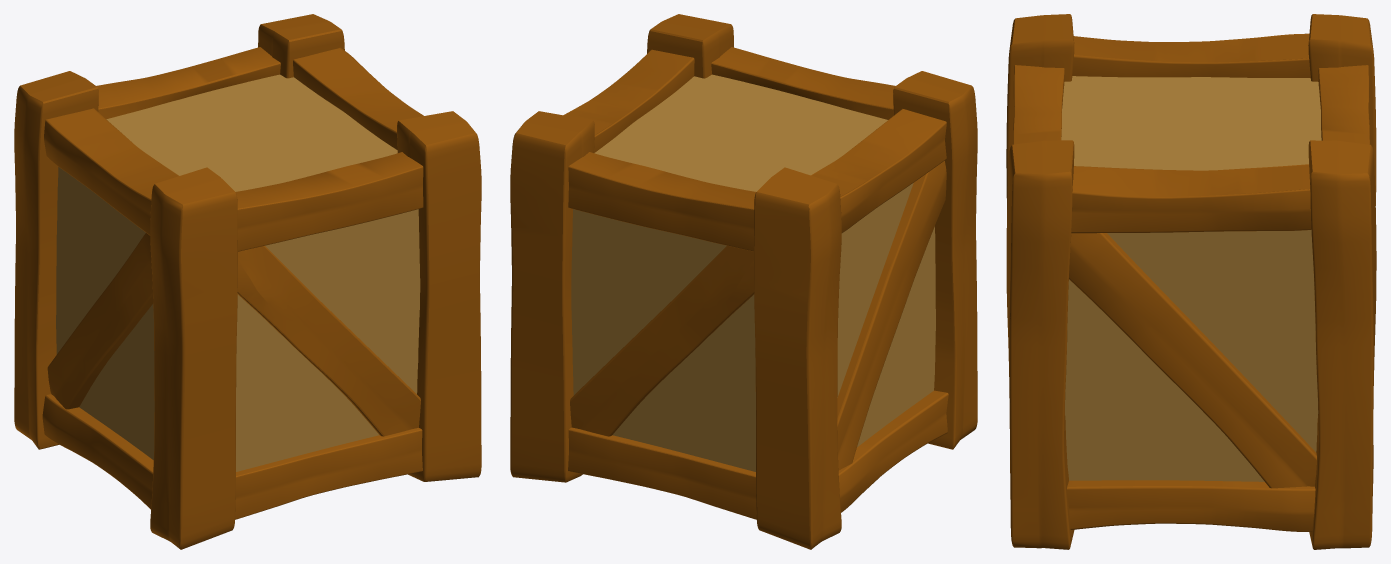
Rendered from Cassa legno.fbx.
3 views of the same model, side by side, from view 1: azimuth 30°, elevation 25°; view 2: azimuth 150°, elevation 25°; view 3: azimuth 270°, elevation 25° (orthographic). The views are drawn at different scales.
Parts seen in each view (by area): view 1: cassa legno; view 2: cassa legno; view 3: cassa legno.
Boxes of the visible parts, x1,y1,x2,y2 form: cassa legno: (14,14,481,549); cassa legno: (510,14,977,549); cassa legno: (1006,14,1376,549).
Size of the model in its own units: 207 by 224 by 197.
